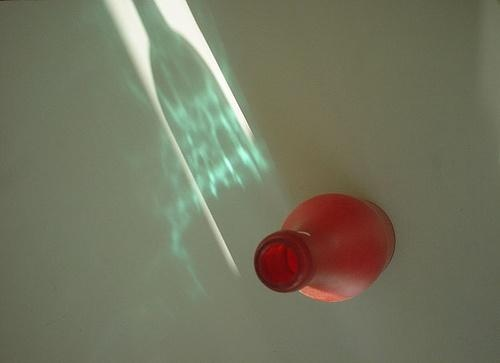bottle: (253, 192, 399, 306)
